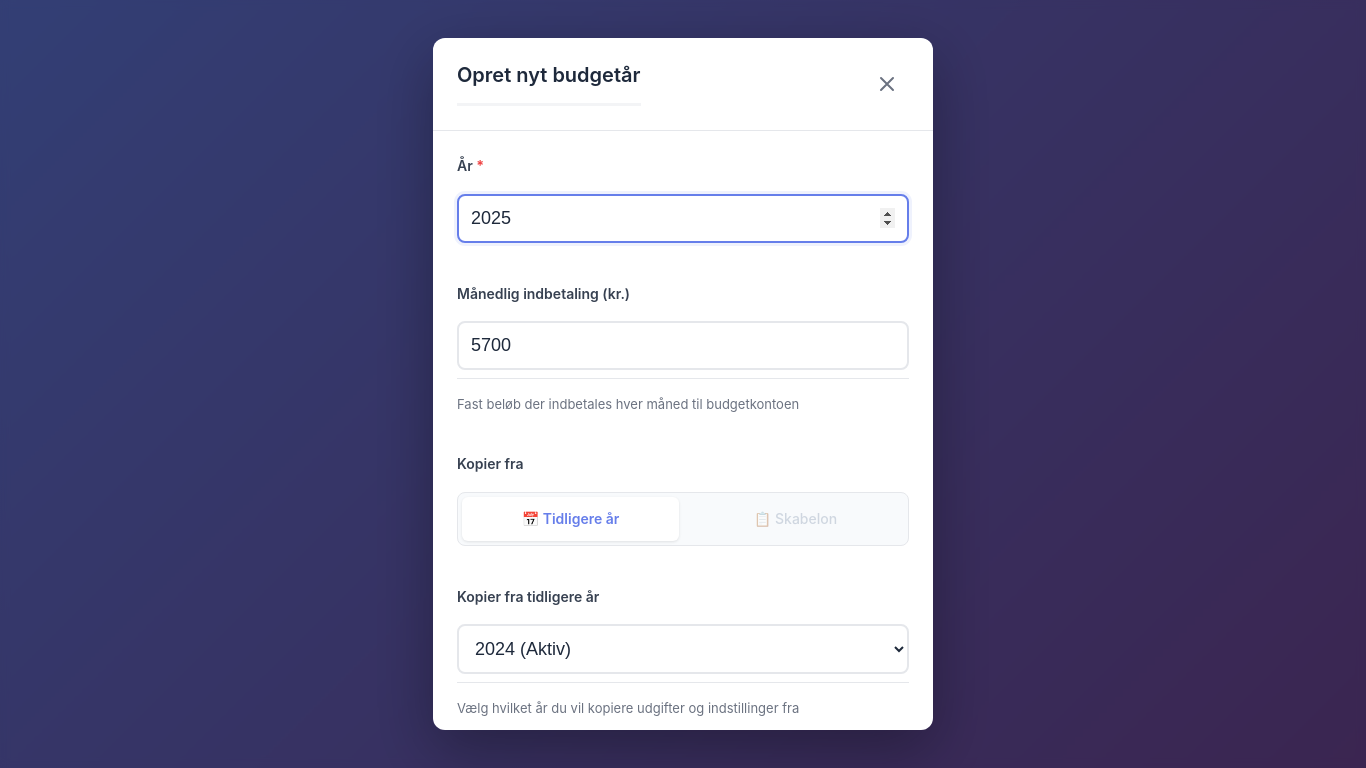
Scenario: CreateYearModal Integration Tests › Form Validation › should reject negative monthly payment
Replace the text in the number field labelled "Månedlig indbetaling (kr.)" with "-100": (683,346) 457,321 -> 909,370
(page scrolled)
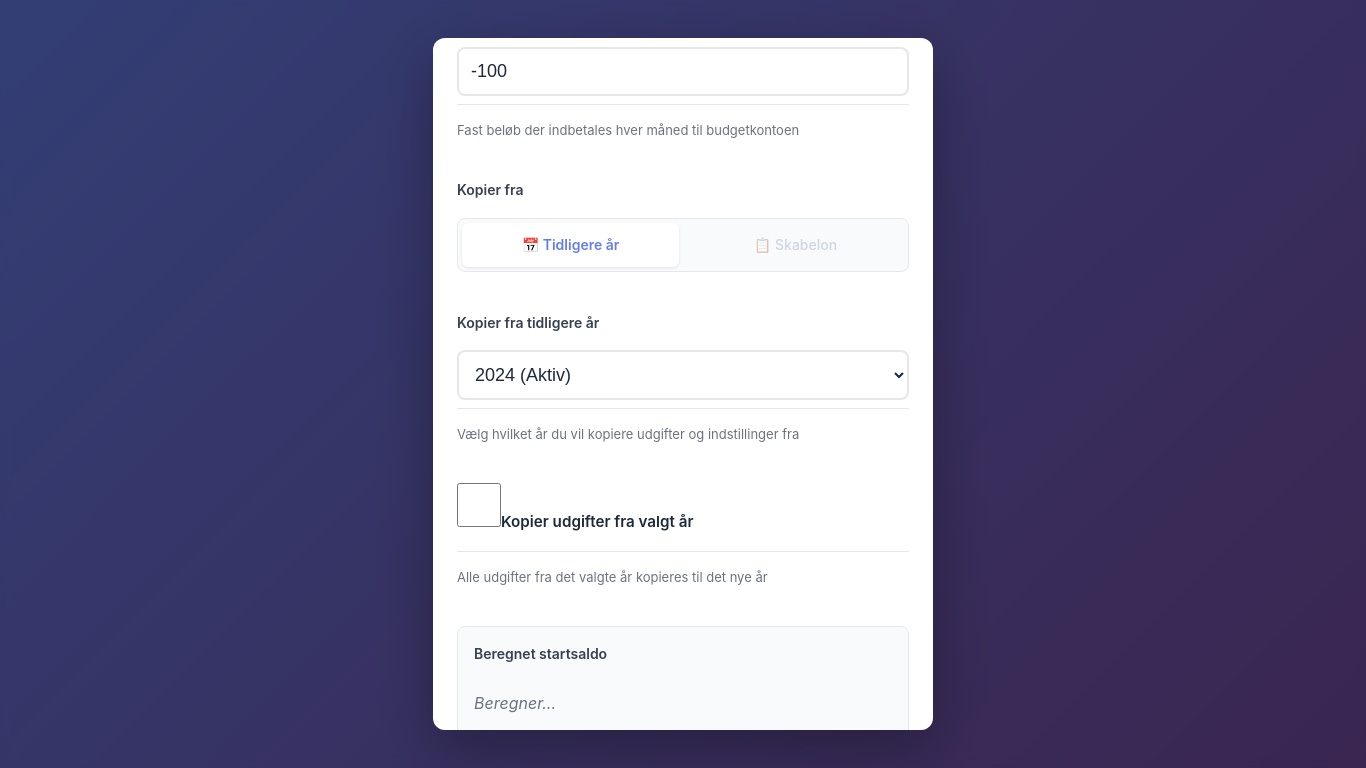
Submit the form labelled "Månedlig indbetaling"
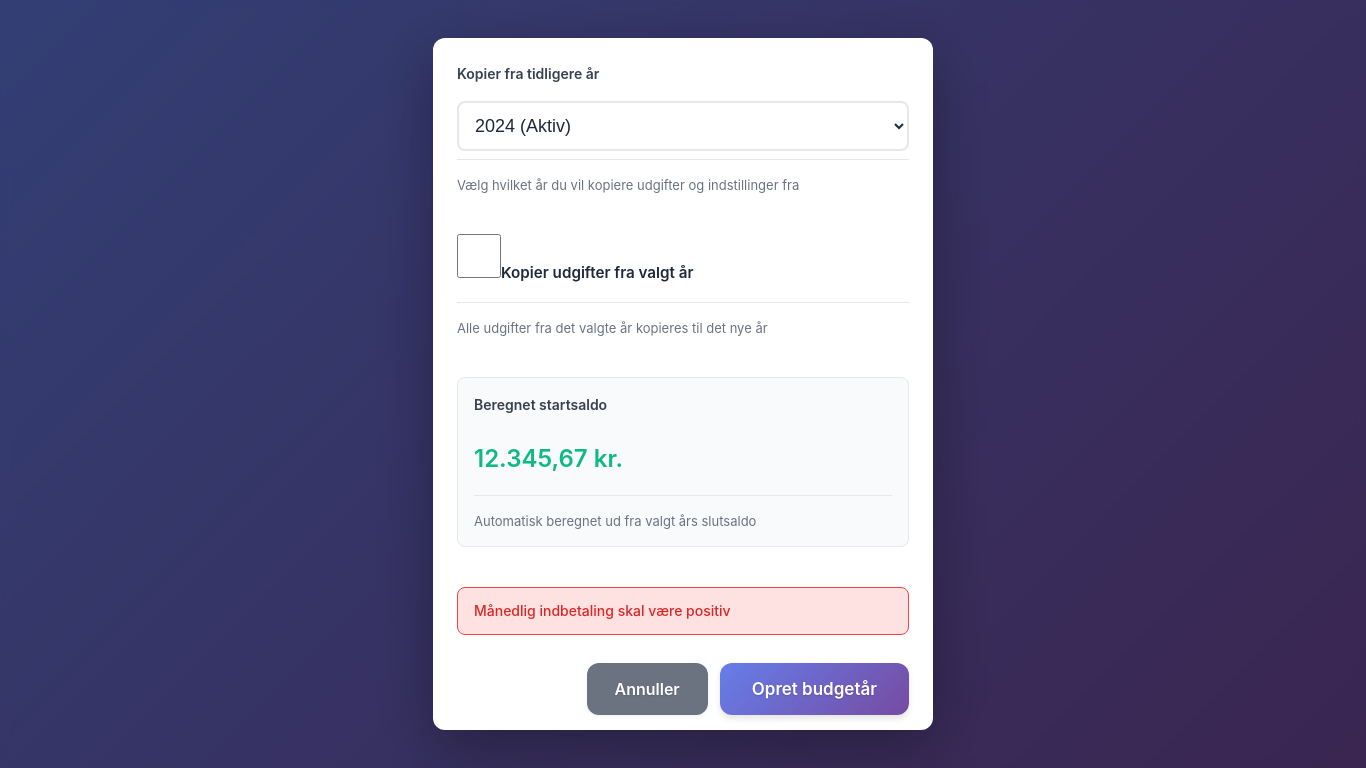
Expected: the text "Månedlig indbetaling skal være positiv" is shown, 457,587 -> 909,635
